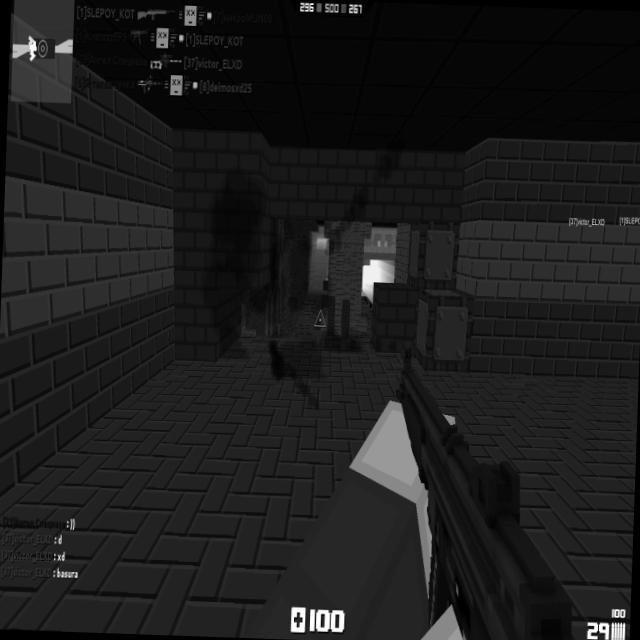enemy: (323, 274, 328, 282), (326, 238, 329, 249)
